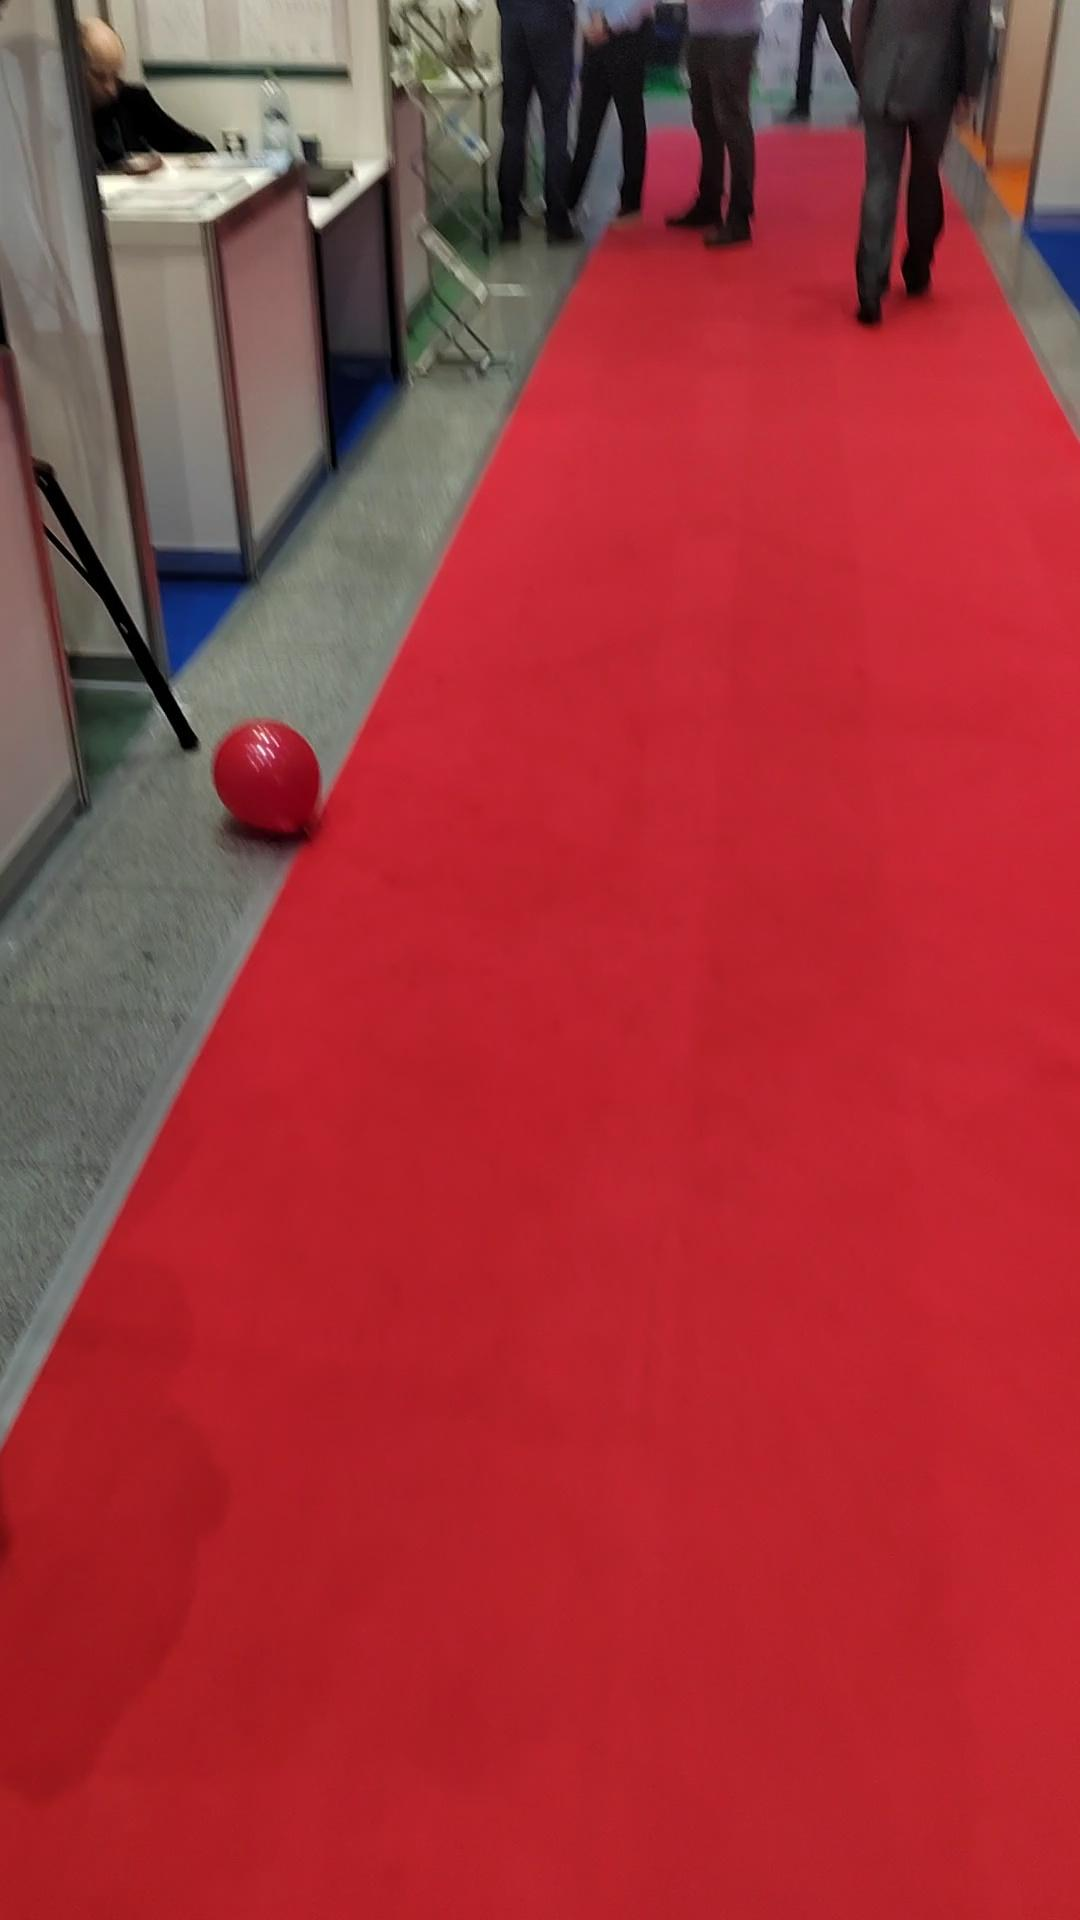red: (211, 717, 323, 841)
